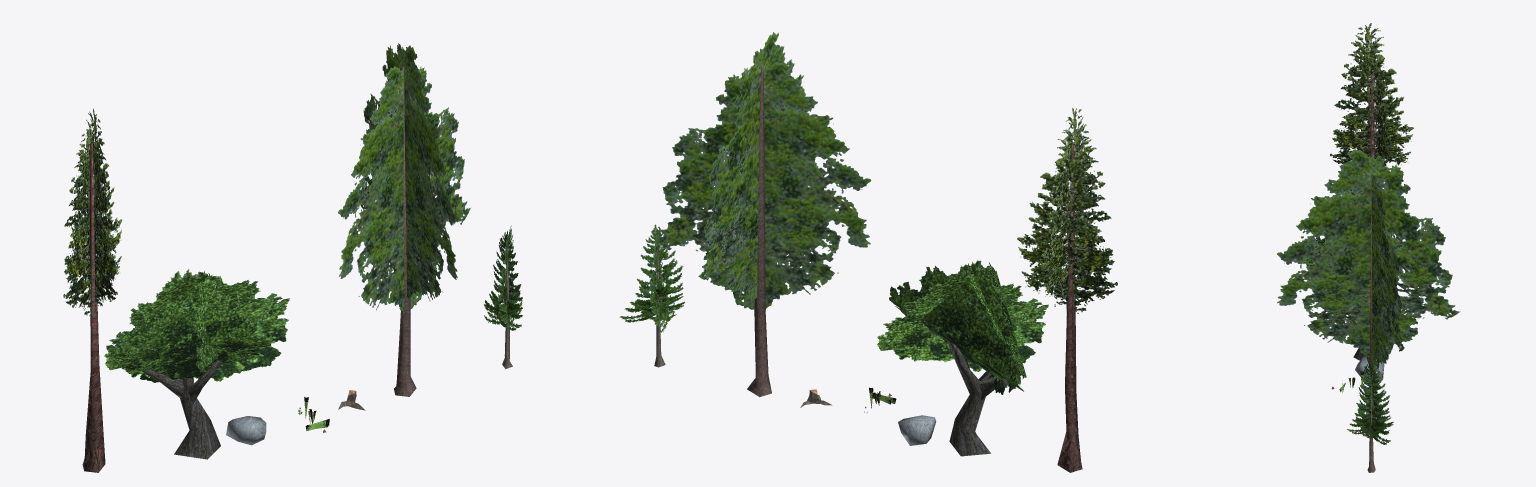
File: ForestAssets.fbx
3 renders of one model, left to right at view 1: azimuth 30°, elevation 25°; view 2: azimuth 150°, elevation 25°; view 3: azimuth 270°, elevation 25°, orthographic. The views are drawn at different scales.
Parts seen in each view (by area): view 1: PSX_Tree3, PSX_Tree2, PSX_Tree4, PSX_Tree1, PSX_Rock; view 2: PSX_Tree3, PSX_Tree2, PSX_Tree4, PSX_Tree1, PSX_Rock; view 3: PSX_Tree3, PSX_Tree4, PSX_Tree1, PSX_Tree2.
Part boxes in pixels (x1,y1,x2,y2): PSX_Tree3: (338,43,470,396); PSX_Tree2: (104,269,289,459); PSX_Tree4: (63,108,122,472); PSX_Tree1: (483,225,522,369); PSX_Rock: (226,416,266,445); PSX_Tree3: (653,32,871,396); PSX_Tree2: (877,260,1048,456); PSX_Tree4: (1017,108,1117,472); PSX_Tree1: (619,224,684,367); PSX_Rock: (898,415,936,445); PSX_Tree3: (1277,149,1460,434); PSX_Tree4: (1330,23,1413,166); PSX_Tree1: (1347,361,1393,472); PSX_Tree2: (1302,231,1402,360).
Bounding box in the file's own units: 5404 × 3598 × 3141.
Materials: 14 (14 with a texture image).
